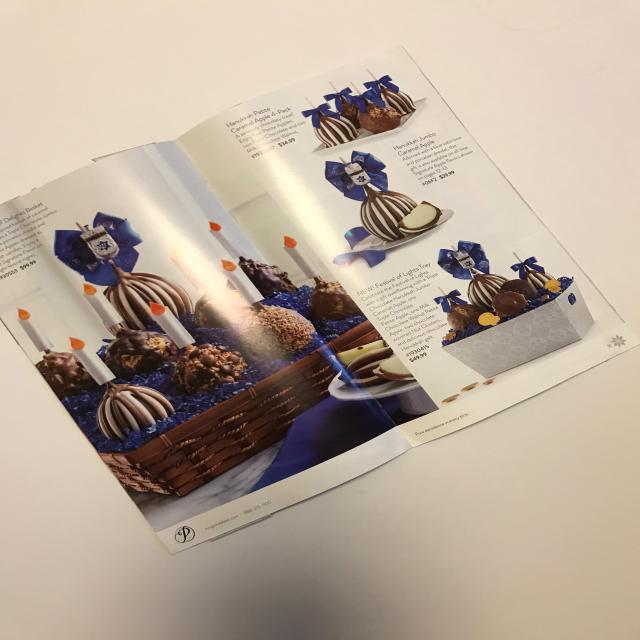paper: (0, 38, 640, 554)
